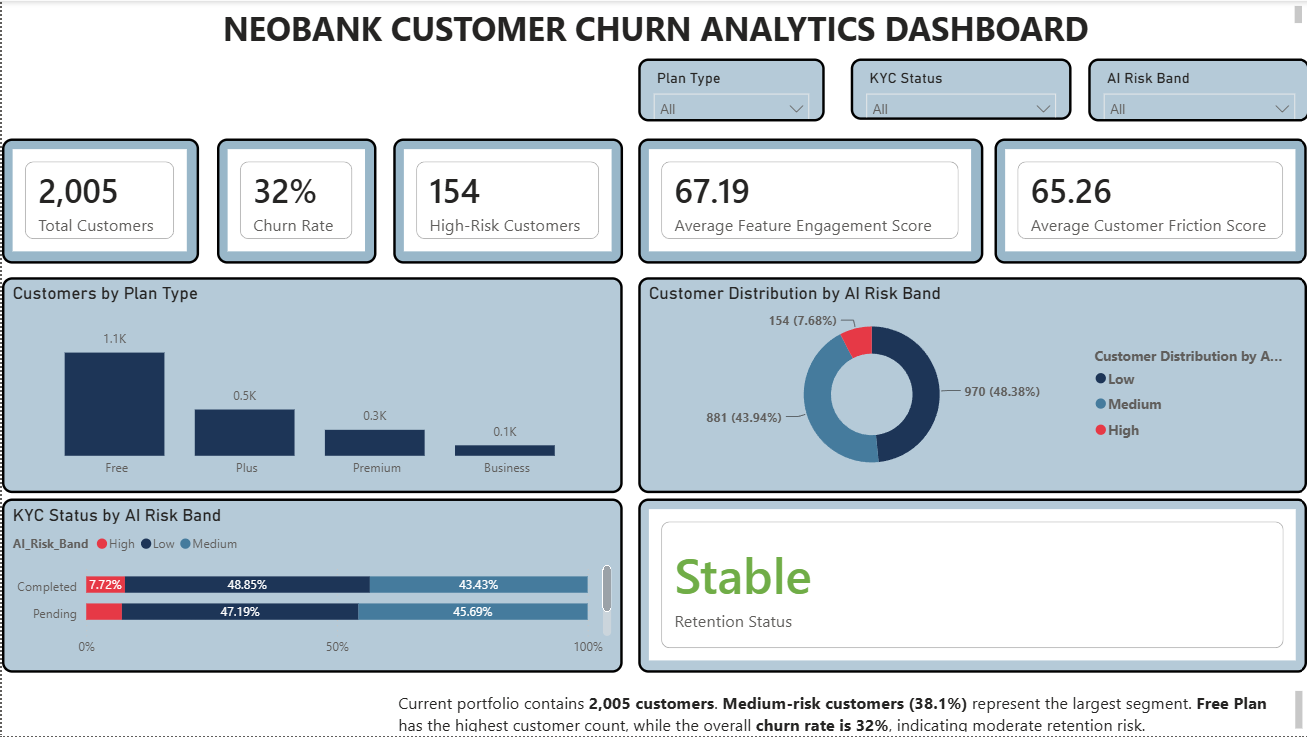

The page's visual inventory and layout, read from the dashboard file:
{"tool":"powerbi","page":{"name":"Executive Overview","canvas":[1280,720],"ordinal":0},"visuals":[{"type":"textbox","box":[8.8,0,1268.8,46.2],"z":0},{"type":"cardVisual","fields":{"Data":["Fact_Customers.Churn Rate"]},"box":[210,135,156.2,122.5],"z":1000},{"type":"cardVisual","fields":{"Data":["Fact_Customers.High-Risk Customers"]},"box":[382.5,135,225,122.5],"z":2000},{"type":"cardVisual","fields":{"Data":["Fact_Customers.Average Feature Engagement Score"]},"box":[622.5,135,337.5,122.5],"z":3000},{"type":"cardVisual","fields":{"Data":["Fact_Customers.Average Customer Friction Score"]},"box":[971.2,135,306.2,122.5],"z":4000},{"type":"cardVisual","fields":{"Data":["Fact_Customers.Total Customers Display"]},"box":[0,135,192.5,122.5],"z":5000},{"type":"slicer","fields":{"Values":["Fact_Customers.Plan_Type"]},"box":[622.5,56.2,182.5,61.2],"z":6000},{"type":"slicer","fields":{"Values":["Fact_Customers.KYC_Status"]},"box":[830,56.2,216.2,60],"z":7000},{"type":"slicer","fields":{"Values":["Fact_Customers.AI_Risk_Band"]},"box":[1062.5,56.2,217.5,61.2],"z":8000},{"type":"clusteredColumnChart","title":"Customers by Plan Type","fields":{"Category":["Fact_Customers.Plan_Type"],"Y":["CountNonNull(Fact_Customers.Customer_ID)"]},"box":[0,270,607.5,211.2],"z":9000},{"type":"donutChart","title":"Customer Distribution by AI Risk Band","fields":{"Category":["Fact_Customers.AI_Risk_Band"],"Y":["CountNonNull(Fact_Customers.Customer_ID)"]},"box":[622.5,270,655,211.2],"z":10000},{"type":"hundredPercentStackedBarChart","title":"KYC Status by AI Risk Band","fields":{"Category":["Fact_Customers.KYC_Status"],"Y":["CountNonNull(Fact_Customers.Customer_ID)"],"Series":["Fact_Customers.AI_Risk_Band"]},"box":[0,486.2,607.5,170],"z":11000},{"type":"cardVisual","fields":{"Data":["Fact_Customers.Retention KPI Status"]},"box":[622.5,486.2,655,170],"z":12000},{"type":"textbox","box":[382.5,670,895,50],"z":13000}]}

Visuals, with their boxes in screenshot pixels (x1, y1, x2, y2), scaled from the page's 1280x720 canvas onto the 1307x737 screenshot:
textbox: [9, 0, 1305, 47]
cardVisual - Fact_Customers.Churn Rate: [214, 138, 374, 264]
cardVisual - Fact_Customers.High-Risk Customers: [391, 138, 620, 264]
cardVisual - Fact_Customers.Average Feature Engagement Score: [636, 138, 980, 264]
cardVisual - Fact_Customers.Average Customer Friction Score: [992, 138, 1304, 264]
cardVisual - Fact_Customers.Total Customers Display: [0, 138, 197, 264]
slicer - Fact_Customers.Plan_Type: [636, 58, 822, 120]
slicer - Fact_Customers.KYC_Status: [848, 58, 1068, 119]
slicer - Fact_Customers.AI_Risk_Band: [1085, 58, 1306, 120]
"Customers by Plan Type" clusteredColumnChart: [0, 276, 620, 493]
"Customer Distribution by AI Risk Band" donutChart: [636, 276, 1304, 493]
"KYC Status by AI Risk Band" hundredPercentStackedBarChart: [0, 498, 620, 672]
cardVisual - Fact_Customers.Retention KPI Status: [636, 498, 1304, 672]
textbox: [391, 686, 1304, 736]
